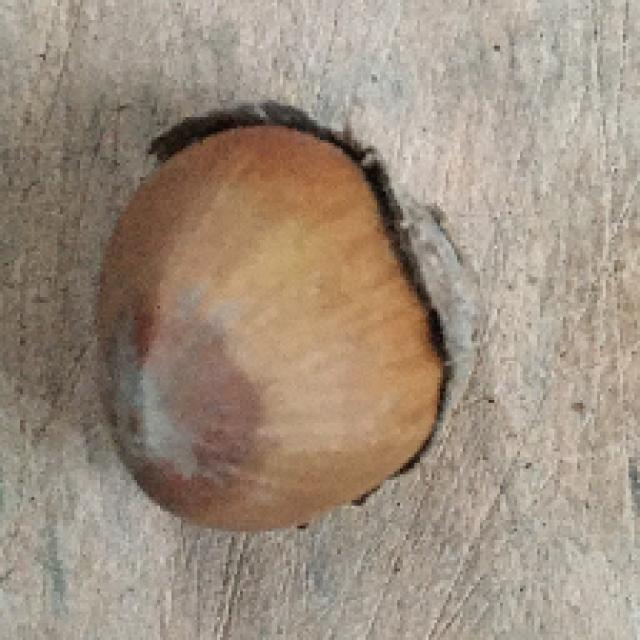damagedHazelnut: (89, 96, 494, 543)
